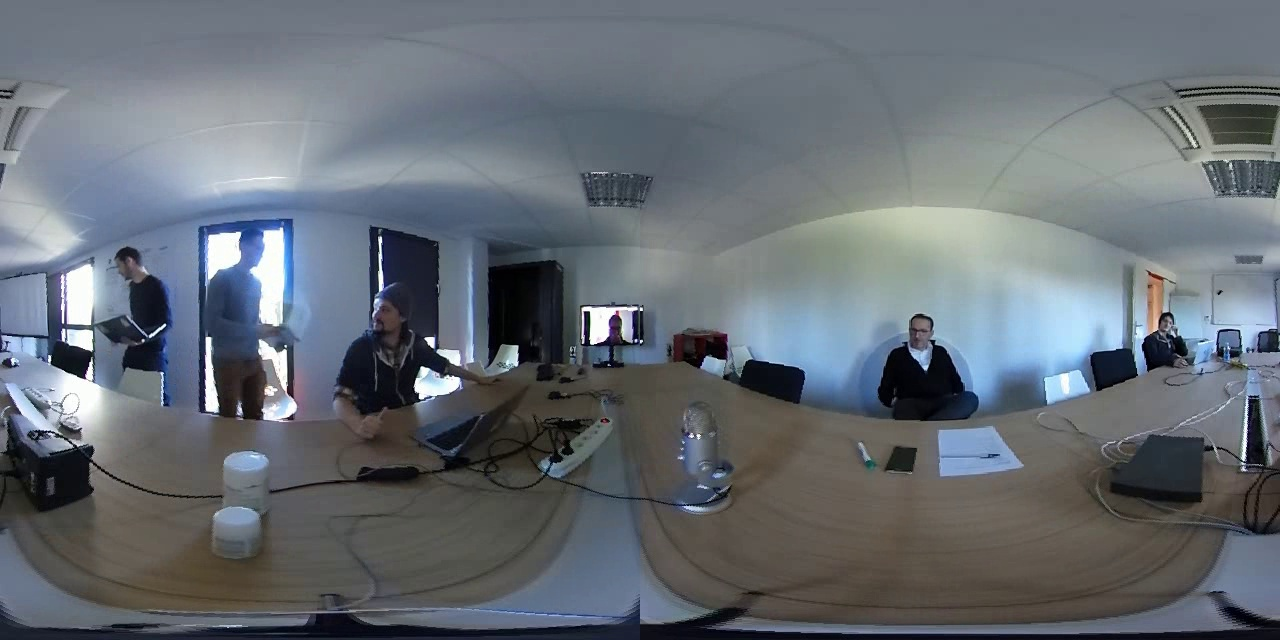person: (202, 192, 288, 397), (338, 268, 455, 416), (874, 306, 970, 416), (97, 237, 167, 362), (583, 303, 644, 347), (1143, 303, 1186, 362)
